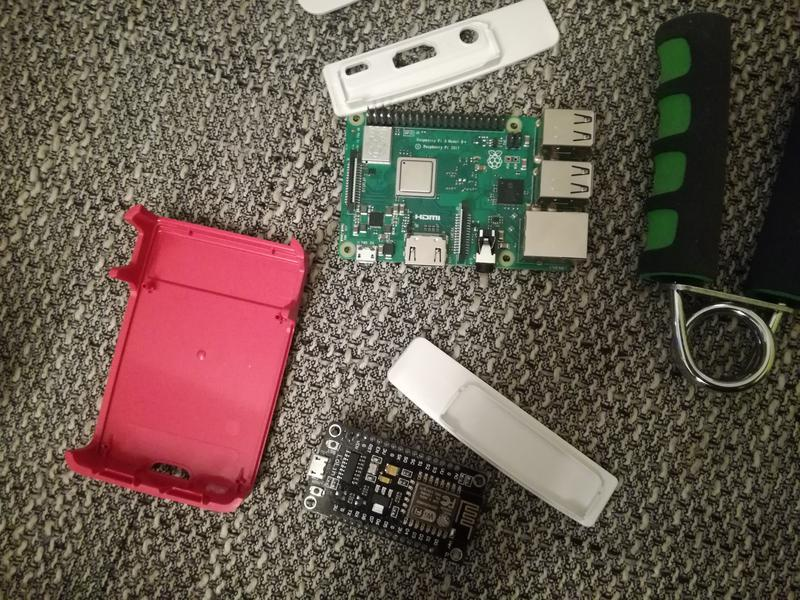Raspberry_Pi_3: (334, 95, 601, 276)
